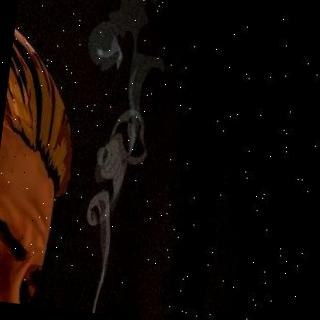smoke: (65, 0, 172, 266)
